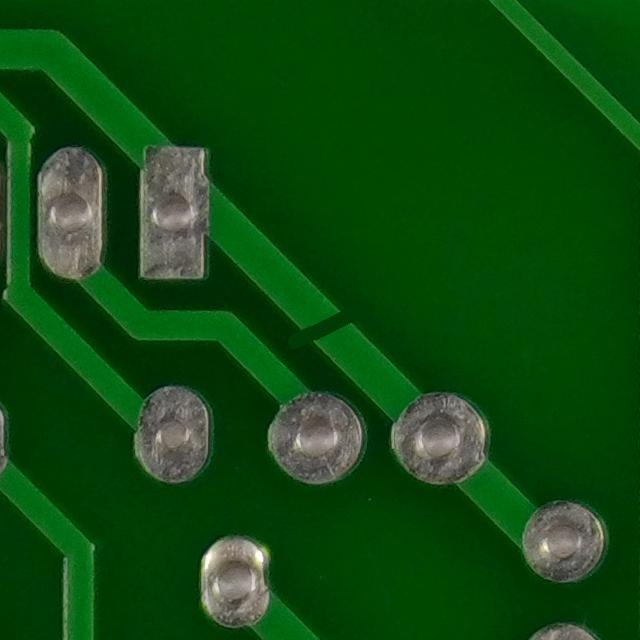open_circuit: (275, 284, 365, 356)
